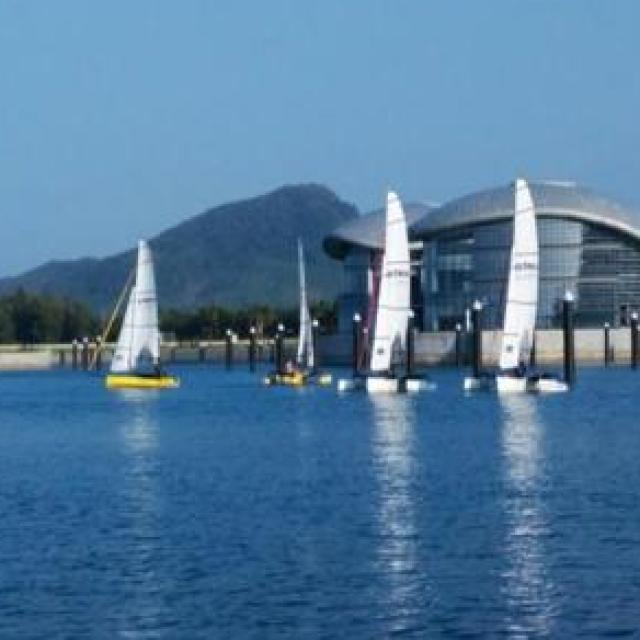sailboat: (464, 168, 576, 393), (358, 186, 437, 397), (105, 240, 178, 390), (260, 234, 323, 391)
